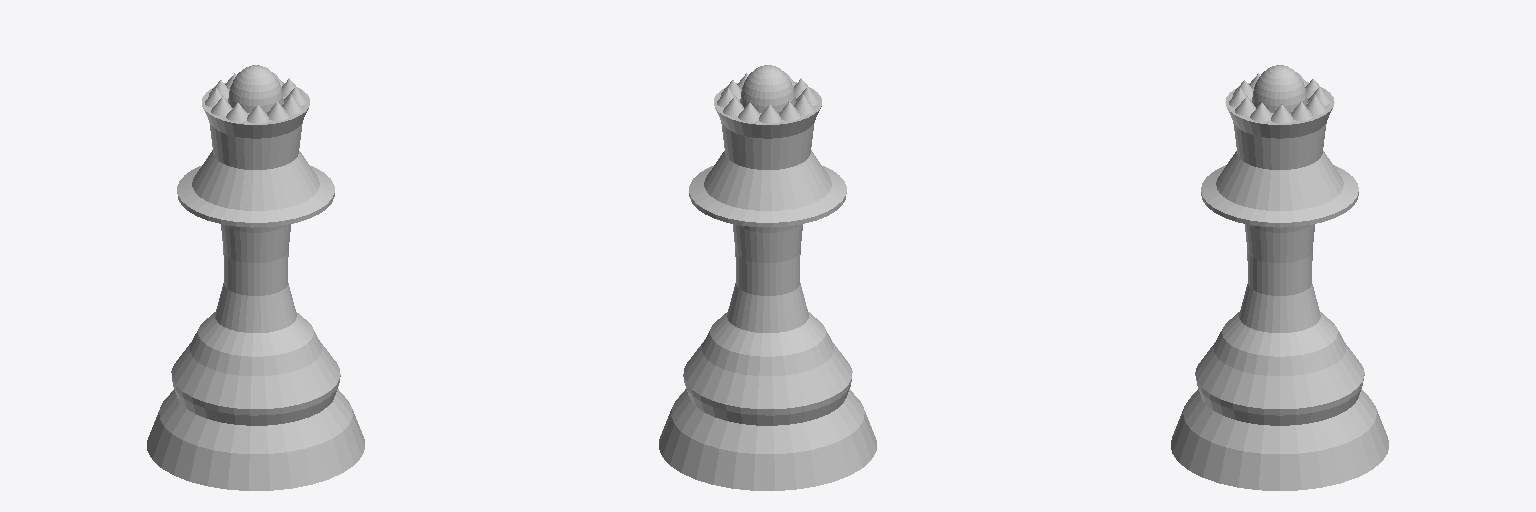
Rendered from queen.obj.
3 views of the same model, side by side, from view 1: azimuth 30°, elevation 25°; view 2: azimuth 150°, elevation 25°; view 3: azimuth 270°, elevation 25° (orthographic).
Parts seen in each view (by area): view 1: Sphere; view 2: Sphere; view 3: Sphere.
Part boxes in pixels (x1,y1,x2,y2): Sphere: (147, 65, 364, 490); Sphere: (659, 65, 876, 490); Sphere: (1171, 65, 1388, 490).
Bounding box in the file's own units: 0.607 × 1.16 × 0.607.